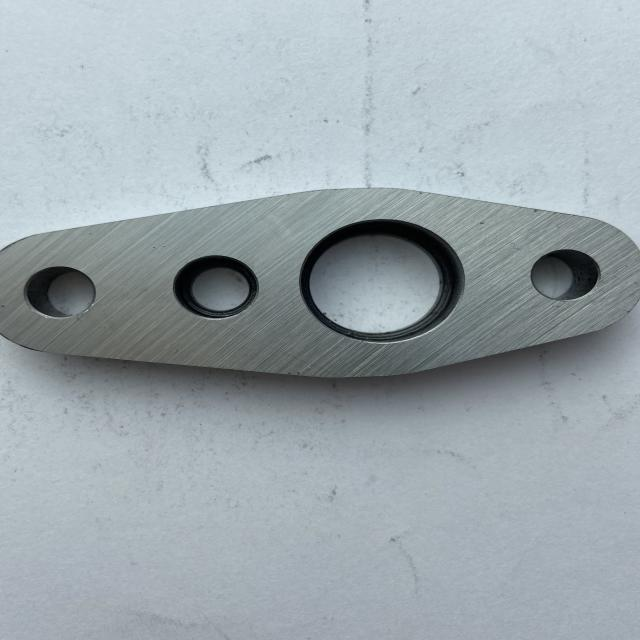chap: (150, 245, 158, 251), (86, 232, 95, 237), (162, 243, 168, 250), (0, 303, 7, 309)
lines: (219, 323, 310, 366), (601, 267, 639, 294), (605, 300, 630, 314)
